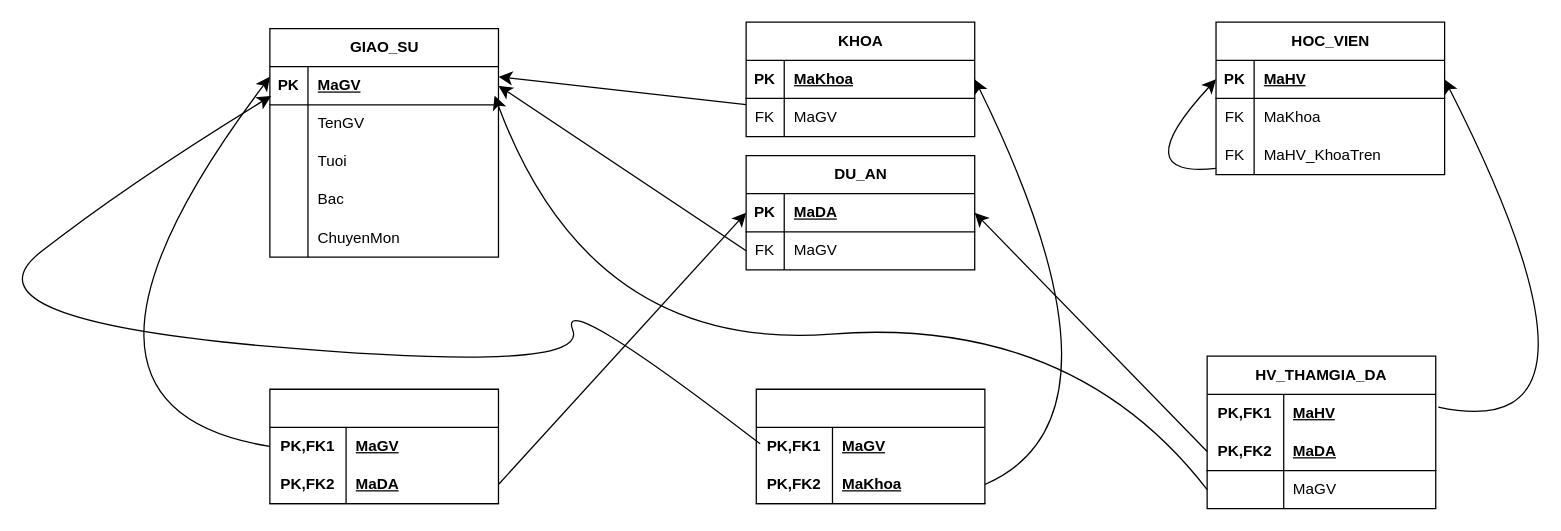
Image size: 1561x531. Some labels were removed from this diagram. The shapes that lost their labels are listed below. From the top down, each one's box as (x1, y1, x2, y2) in pixels, then its label:
(269, 388, 498, 504): GS_THUCHIEN_DA
(755, 388, 985, 504): GS_LAMVIEC_KHOA
